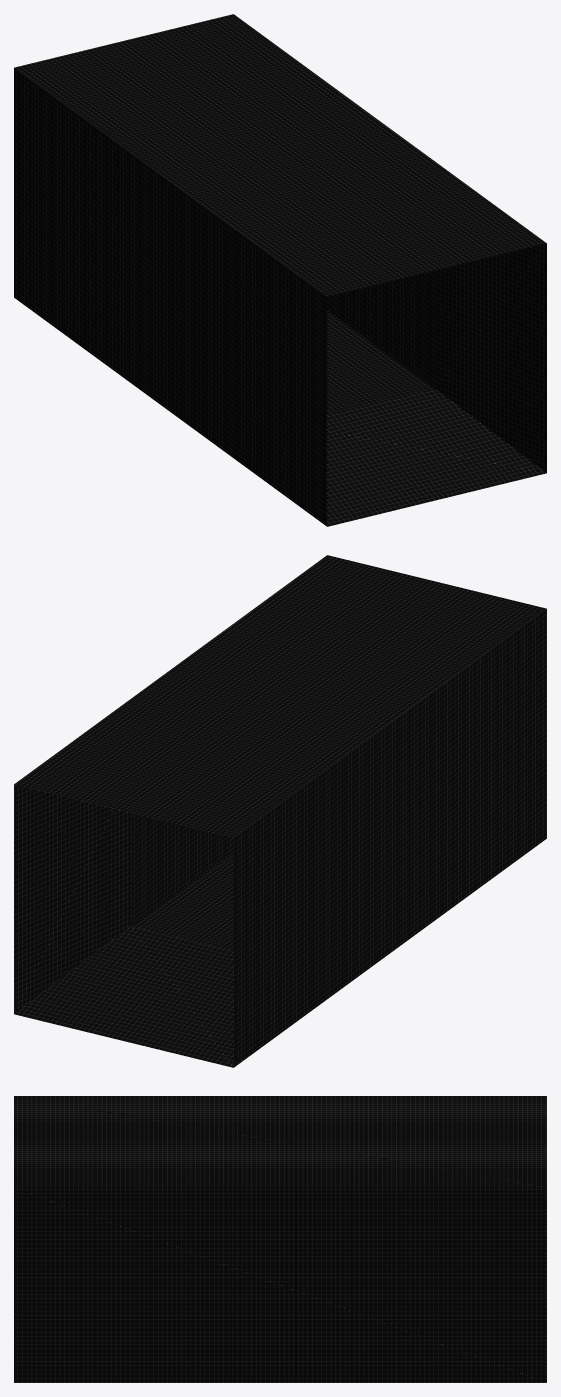
Rendered from grandearche-6.glb.
3 renders of one model, top to bottom at view 1: azimuth 30°, elevation 25°; view 2: azimuth 150°, elevation 25°; view 3: azimuth 270°, elevation 25°, orthographic. The views are drawn at different scales.
Parts seen in each view (by area): view 1: Cube; view 2: Cube; view 3: Cube.
Boxes of the visible parts, x1=… form: Cube: x1=14, y1=14, x2=546, y2=526; Cube: x1=14, y1=555, x2=546, y2=1067; Cube: x1=14, y1=1096, x2=546, y2=1382.
Bounding box in the file's own units: 2 × 2 × 4.94.
1 material, 1 textured.
